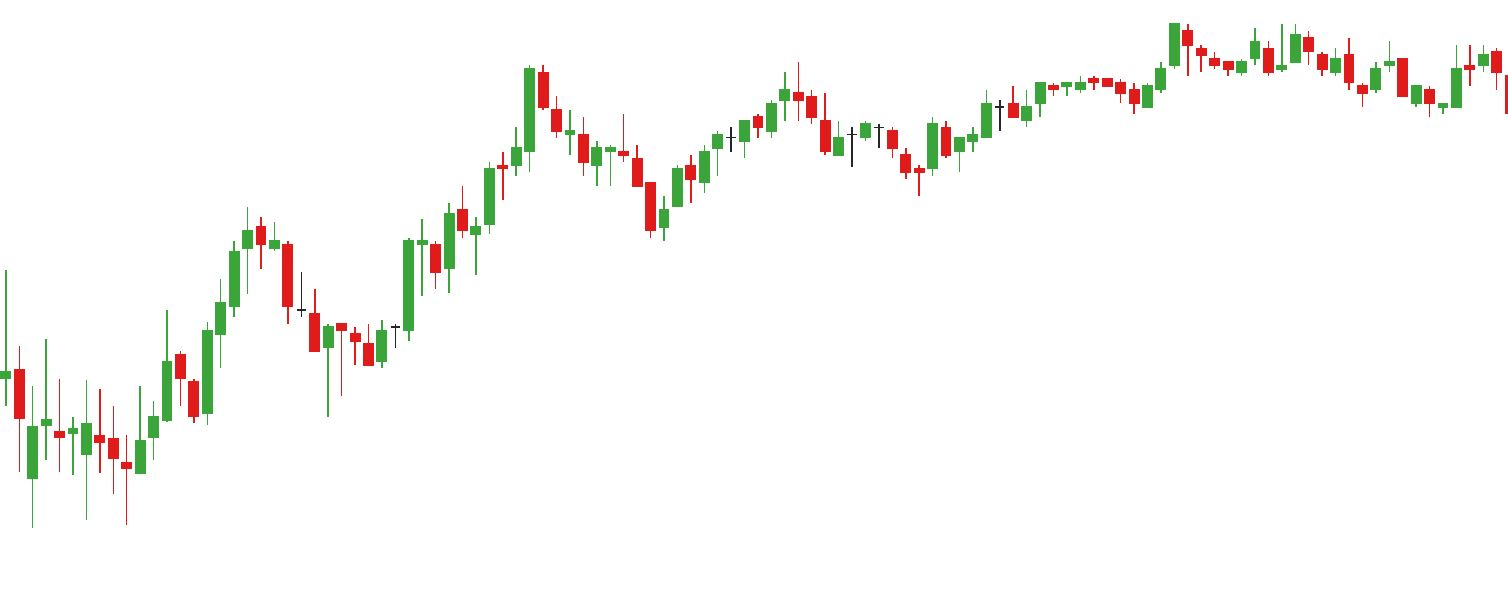buy: (845, 127, 939, 194)
